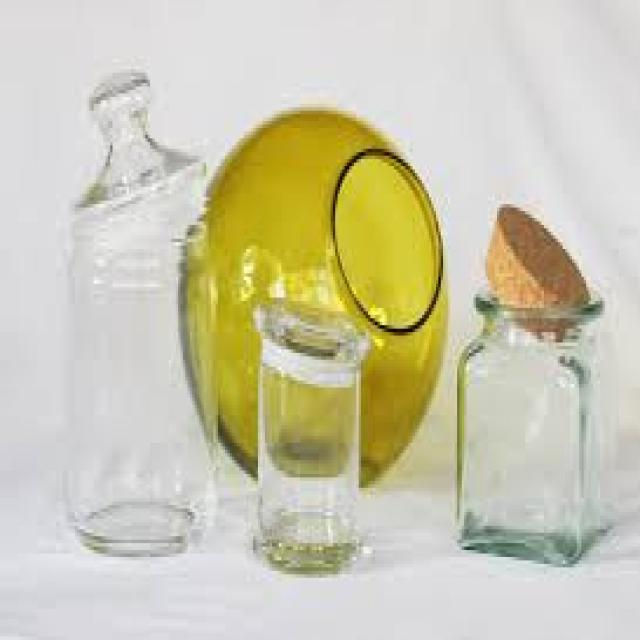glass: (176, 107, 448, 491), (68, 66, 213, 550), (455, 281, 602, 568), (251, 305, 366, 575)
